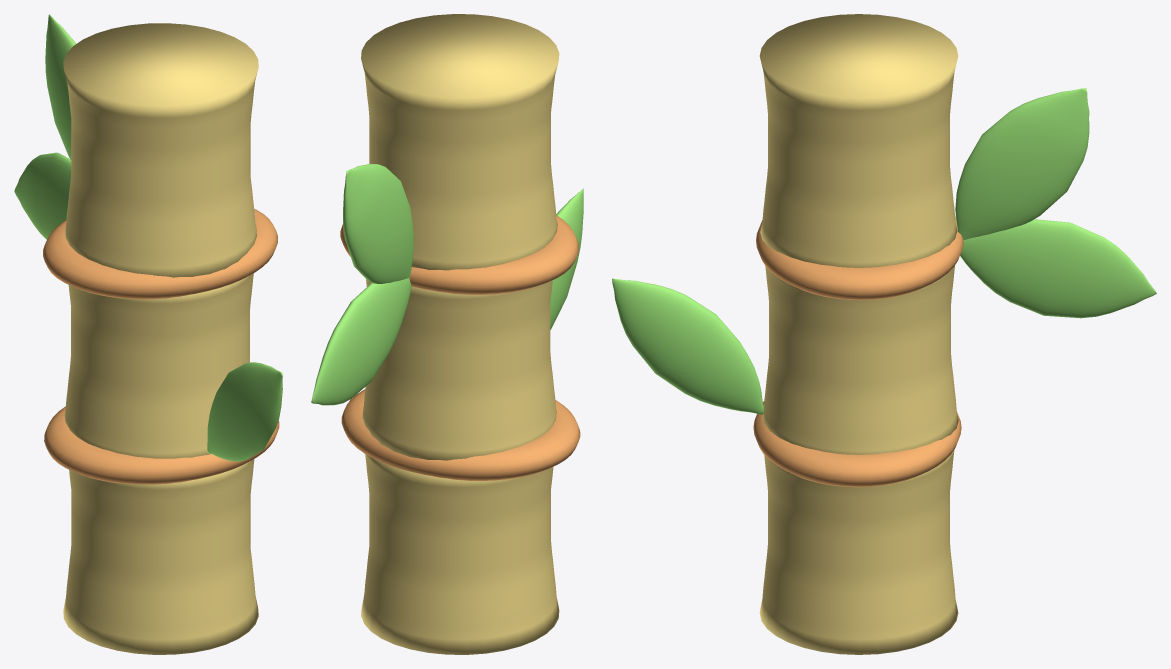
The model's file is gomi_item.gltf.
3 views of the same model, side by side, from view 1: azimuth 30°, elevation 25°; view 2: azimuth 150°, elevation 25°; view 3: azimuth 270°, elevation 25° (orthographic).
Visible parts, largest first — view 1: Cylinder.001, Cylinder.002, Cylinder, Torus, Sphere.003, Torus.001, Sphere.001, Sphere.002; view 2: Cylinder.001, Cylinder.002, Cylinder, Sphere.002, Sphere.001, Torus.001, Torus, Sphere.003; view 3: Cylinder.001, Cylinder.002, Cylinder, Sphere.002, Sphere.001, Sphere.003, Torus.001, Torus.
Part boxes in pixels (box(x1,y1,x2,y2)): Cylinder.001: box(63, 23, 258, 277); Cylinder.002: box(63, 459, 258, 654); Cylinder: box(64, 273, 253, 458); Torus: box(43, 209, 277, 299); Sphere.003: box(207, 362, 282, 461); Torus.001: box(44, 406, 279, 484); Sphere.001: box(14, 152, 71, 239); Sphere.002: box(45, 14, 75, 160); Cylinder.001: box(361, 14, 559, 270); Cylinder.002: box(361, 454, 559, 654); Cylinder: box(362, 279, 556, 460); Sphere.002: box(343, 164, 413, 283); Sphere.001: box(311, 278, 411, 405); Torus.001: box(341, 389, 580, 480); Torus: box(340, 215, 578, 294); Sphere.003: box(550, 188, 583, 329); Cylinder.001: box(759, 14, 958, 267); Cylinder.002: box(759, 450, 958, 654); Cylinder: box(762, 265, 958, 454); Sphere.002: box(955, 88, 1089, 239); Sphere.001: box(960, 219, 1156, 318); Sphere.003: box(612, 278, 763, 414); Torus.001: box(753, 401, 961, 487); Torus: box(756, 217, 963, 300).
Size of the model in its own units: 2.5 by 6.19 by 5.48.
